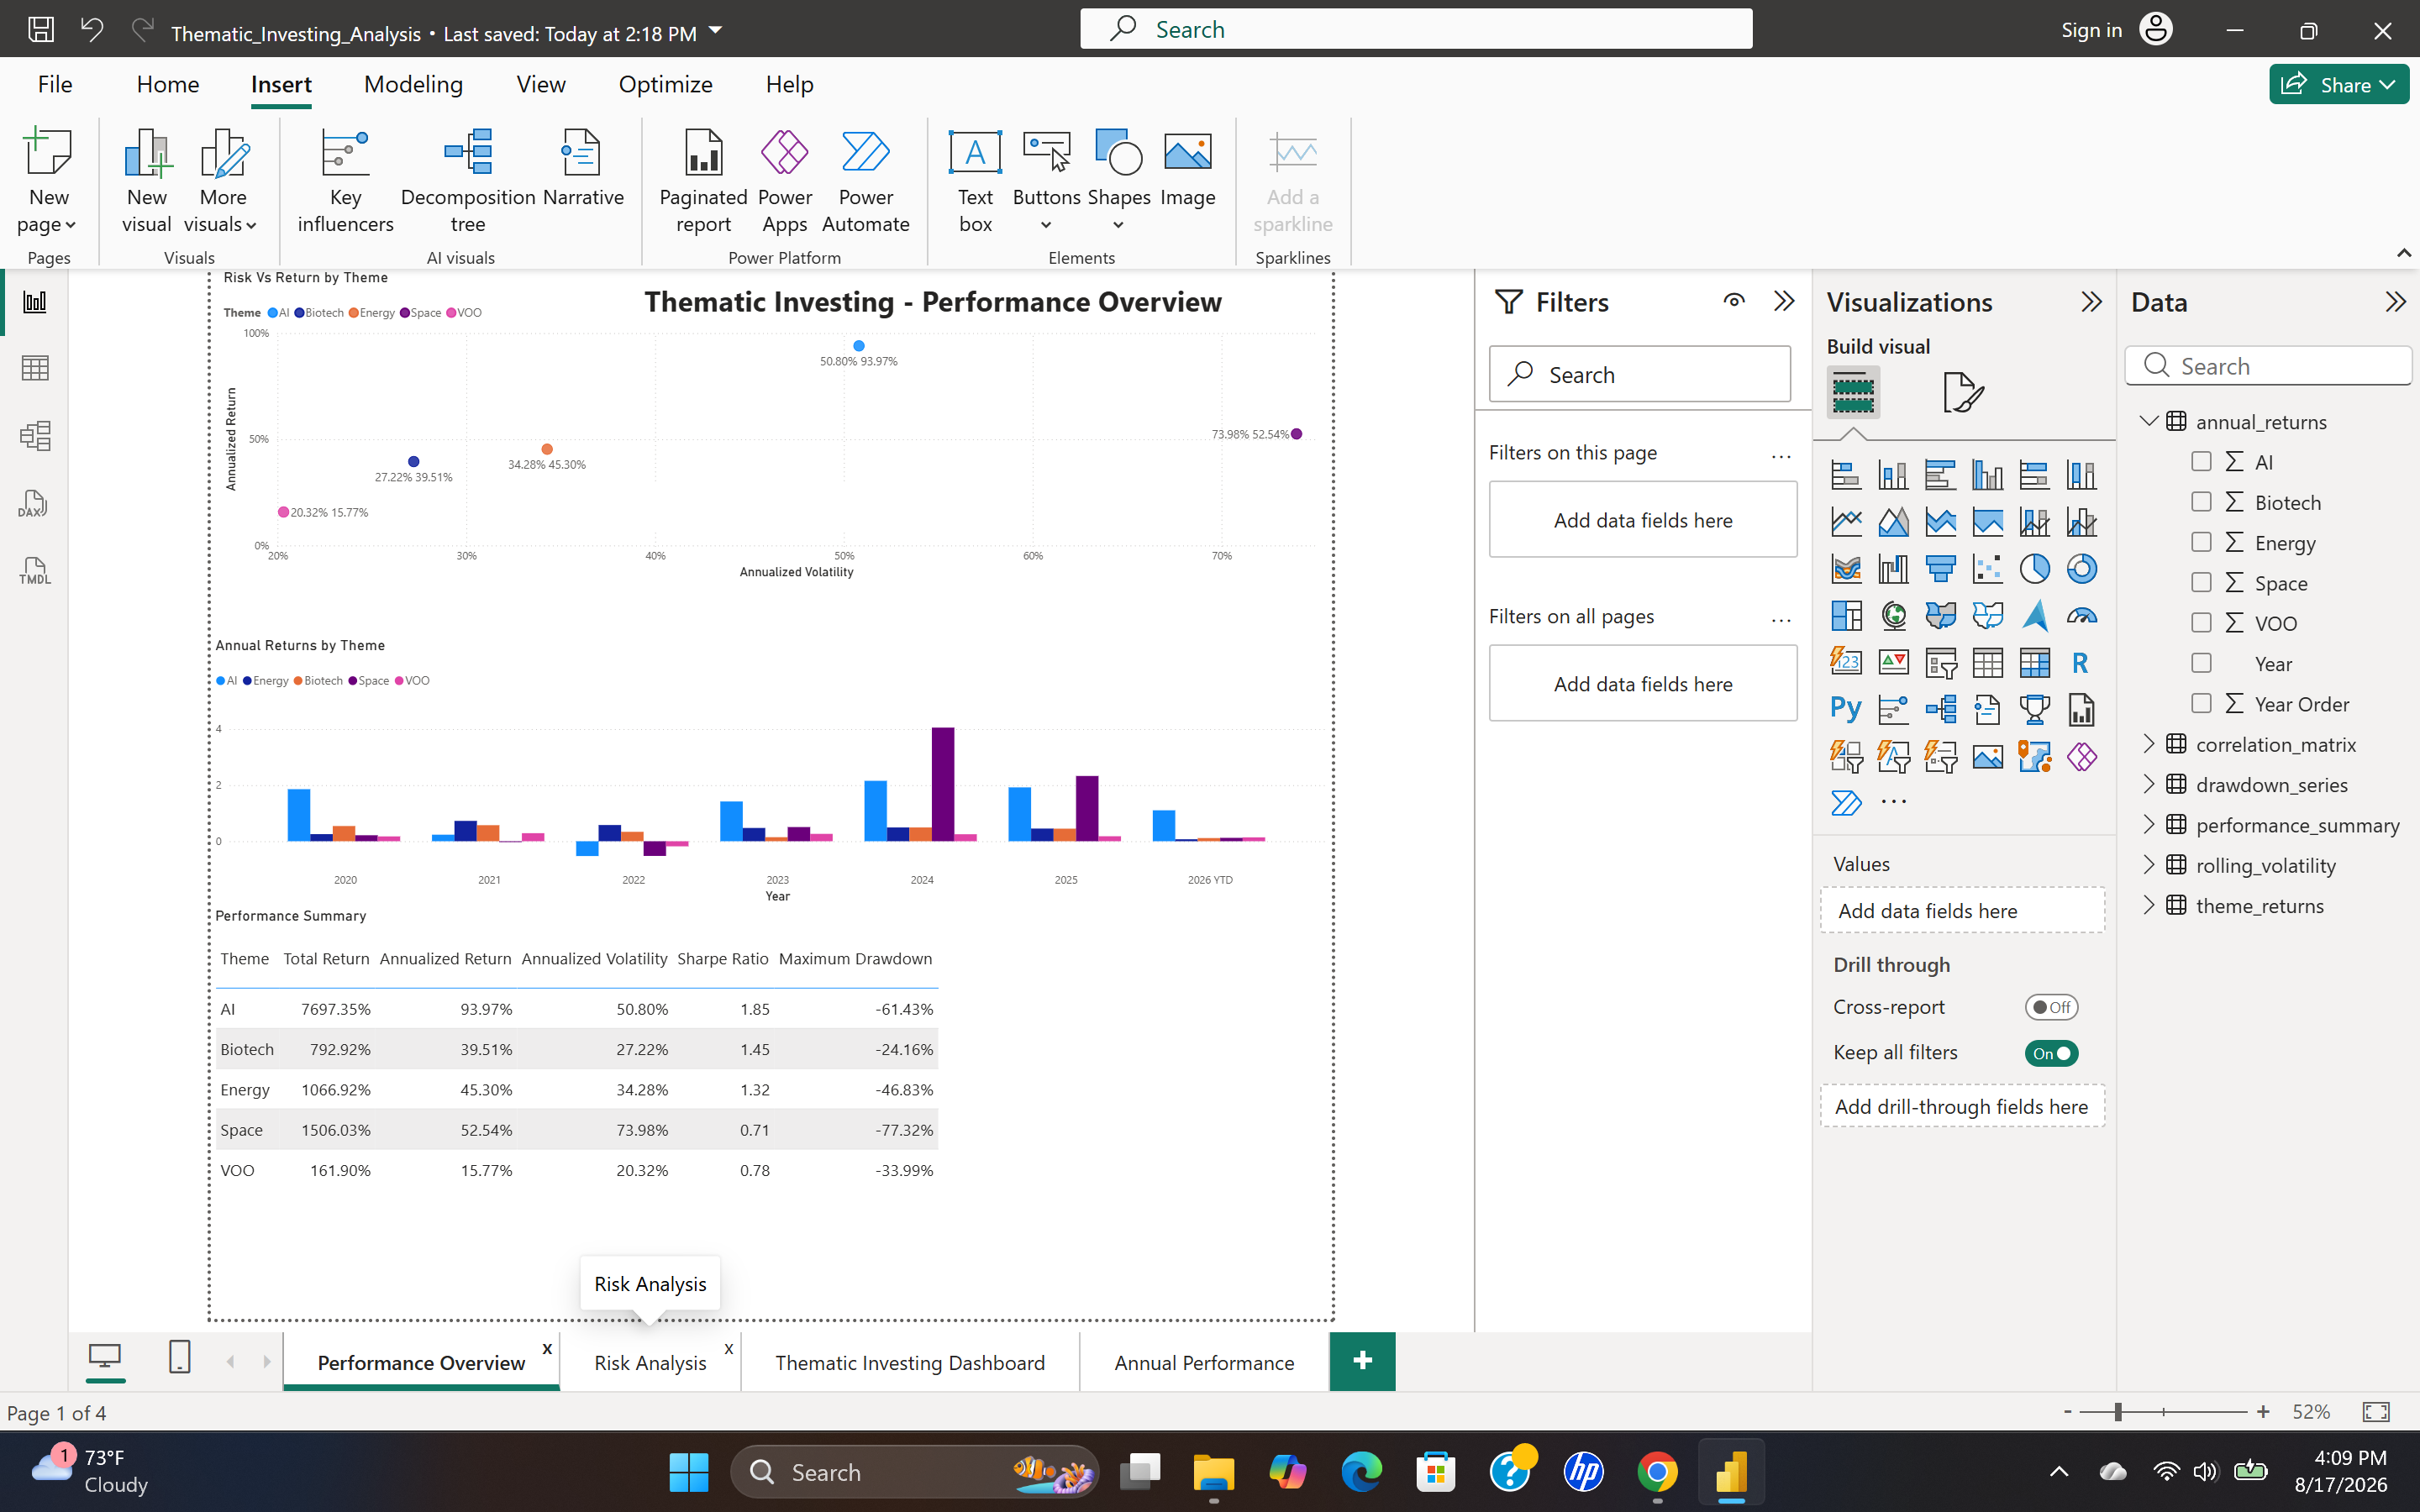

The page's visual inventory and layout, read from the dashboard file:
{"tool":"powerbi","page":{"name":"Performance Overview","canvas":[1280,1200],"ordinal":0},"visuals":[{"type":"scatterChart","title":"Risk Vs Return by Theme","fields":{"X":["performance_summary.Annualized Volatility"],"Y":["performance_summary.Annualized Return"],"Series":["performance_summary.Theme"]},"box":[10.2,0,1269.8,359.5],"z":0},{"type":"clusteredColumnChart","title":"Annual Returns by Theme","fields":{"Category":["annual_returns.Year"],"Y":["Sum(annual_returns.AI)","Sum(annual_returns.Energy)","Sum(annual_returns.Biotech)","Sum(annual_returns.Space)","Sum(annual_returns.VOO)"]},"box":[0,420.5,1278.7,309.1],"z":1000},{"type":"tableEx","title":"Performance Summary","fields":{"Values":["performance_summary.Theme","performance_summary.Total Return","performance_summary.Annualized Return","performance_summary.Annualized Volatility","performance_summary.Sharpe Ratio","performance_summary.Maximum Drawdown"]},"box":[0,729.6,1278.7,336],"z":2000},{"type":"textbox","box":[416.6,245.8,366.7,55.7],"z":3000},{"type":"textbox","box":[372.5,10,906.2,61.4],"z":4000}]}

Visuals, with their boxes on the page's 1280x1200 design canvas (x1, y1, x2, y2). These are canvas units, not pixel positions in the 2420x1512 screenshot, which may show the page scaled, cropped or inside an application window:
"Risk Vs Return by Theme" scatterChart: {"x1": 10, "y1": 0, "x2": 1280, "y2": 360}
"Annual Returns by Theme" clusteredColumnChart: {"x1": 0, "y1": 420, "x2": 1279, "y2": 730}
"Performance Summary" tableEx: {"x1": 0, "y1": 730, "x2": 1279, "y2": 1066}
textbox: {"x1": 417, "y1": 246, "x2": 783, "y2": 302}
textbox: {"x1": 372, "y1": 10, "x2": 1279, "y2": 71}
